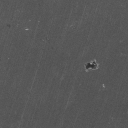corrosion: (83, 59, 99, 73)
